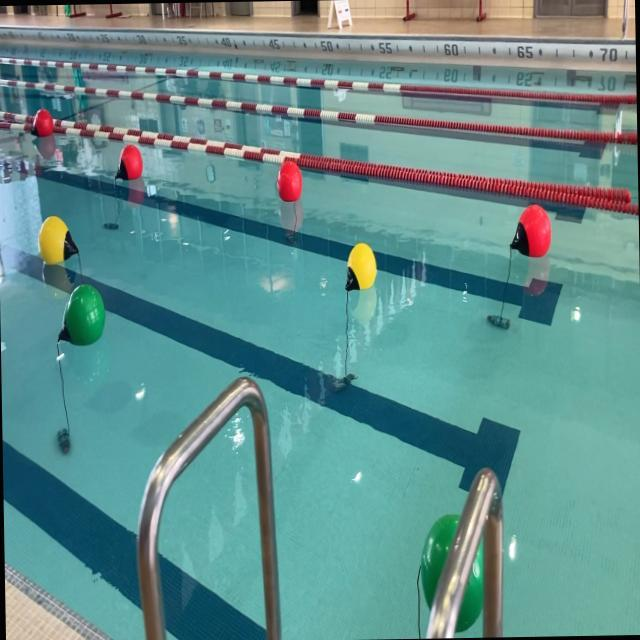buoy: (54, 283, 107, 346), (508, 202, 552, 260), (36, 212, 78, 265), (344, 241, 376, 294), (276, 160, 302, 202), (115, 144, 143, 183), (27, 107, 56, 138)
